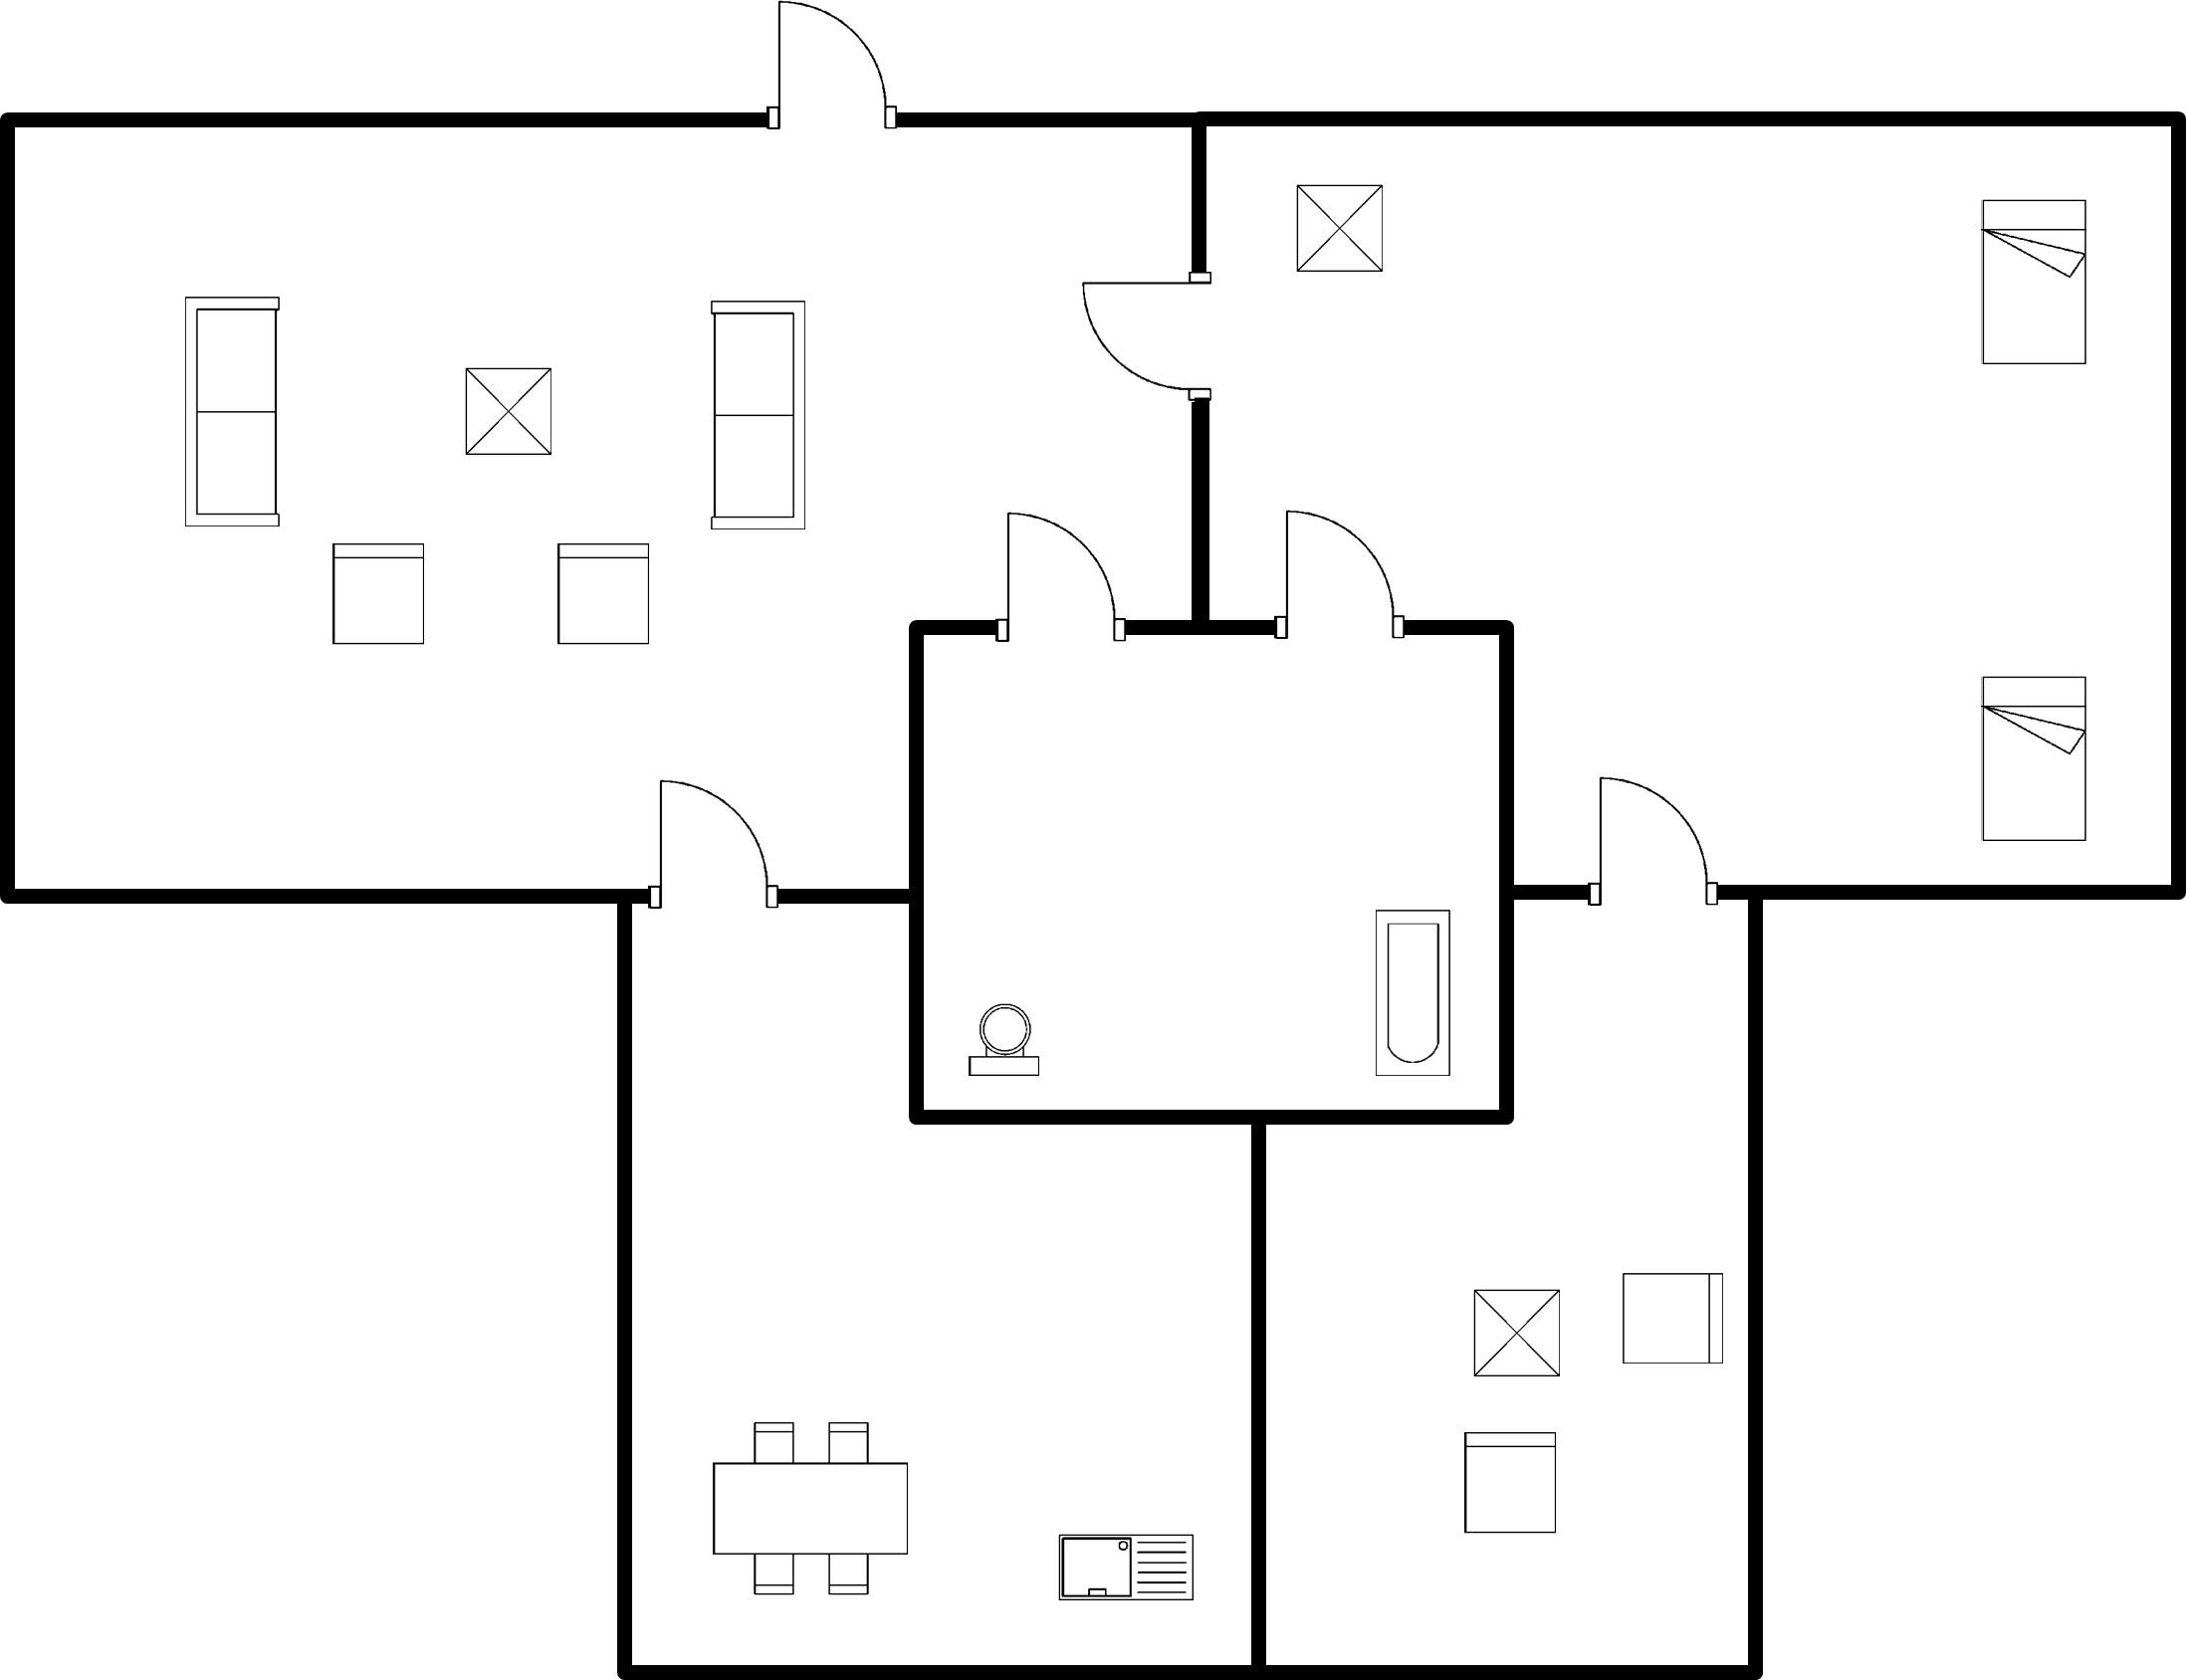bed: (1964, 187, 2106, 380), (1968, 667, 2099, 855)
coffee_table: (447, 358, 564, 468), (1457, 1281, 1575, 1391), (1282, 174, 1394, 284)
dining_table: (700, 1411, 927, 1615)
large_sink: (951, 993, 1050, 1090)
large_sofa: (169, 286, 289, 541), (695, 289, 815, 539)
sink: (1042, 1524, 1210, 1616)
small_sofa: (1447, 1419, 1568, 1548), (547, 533, 667, 659), (322, 533, 440, 659), (1611, 1261, 1731, 1381)
tub: (1361, 896, 1462, 1086)
